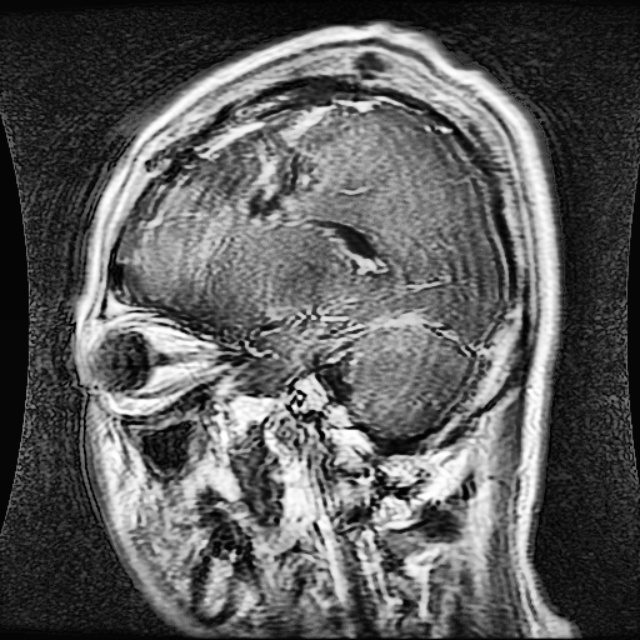Meningioma: (242, 134, 304, 219)
